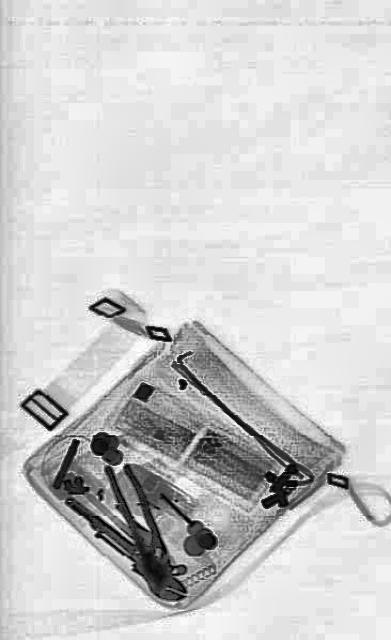Pliers: (101, 446, 179, 602)
